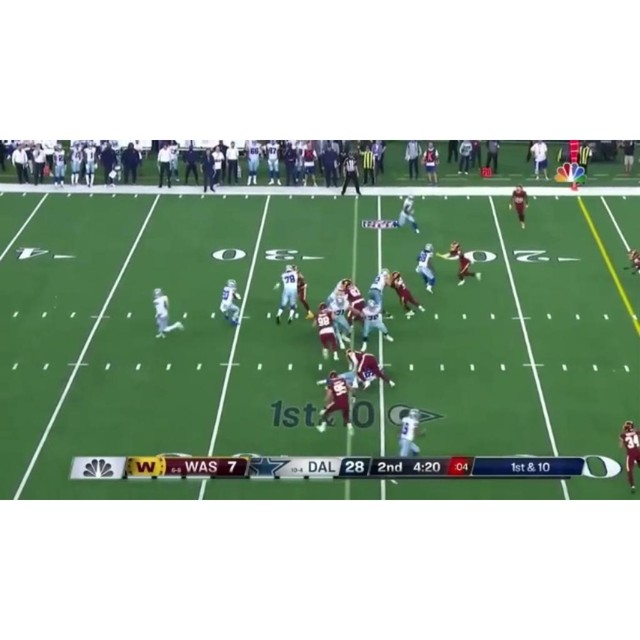american-football-player: (316, 370, 355, 435), (345, 350, 396, 392), (439, 240, 481, 288), (359, 299, 395, 350), (151, 287, 185, 339), (390, 271, 425, 320), (273, 265, 300, 326), (618, 420, 640, 492), (314, 303, 340, 361), (396, 407, 426, 457), (289, 263, 313, 320), (328, 295, 352, 345), (415, 243, 437, 294), (219, 279, 242, 326), (395, 194, 421, 235), (367, 268, 391, 312), (343, 280, 366, 322), (511, 183, 528, 230), (327, 279, 349, 307)
